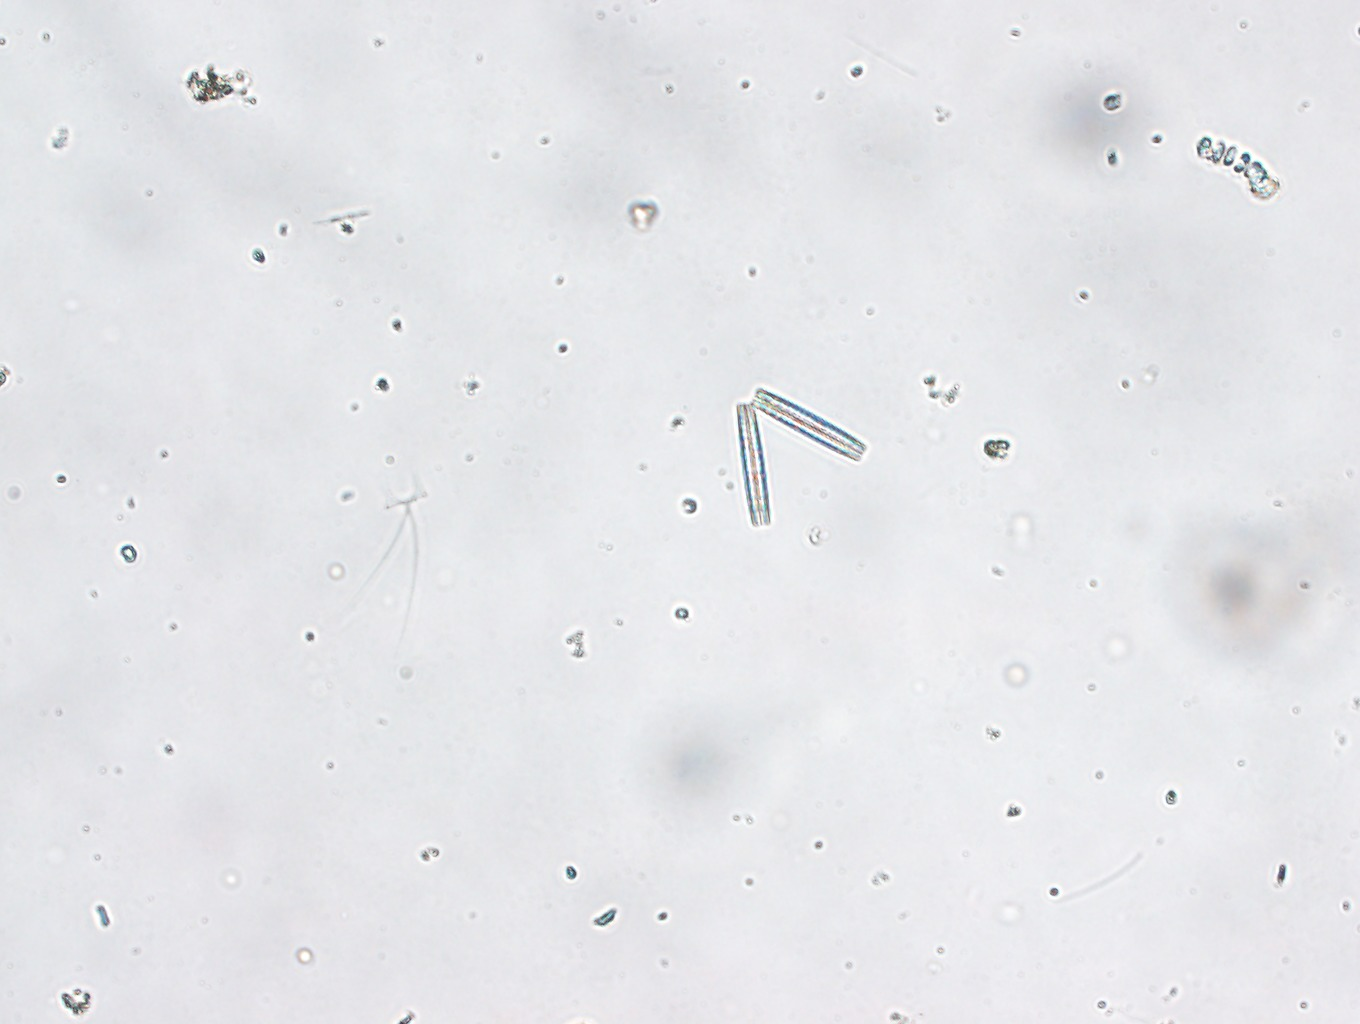skeletonema: (1191, 136, 1280, 203)
thalassionema nitzschioides: (734, 386, 867, 529)
